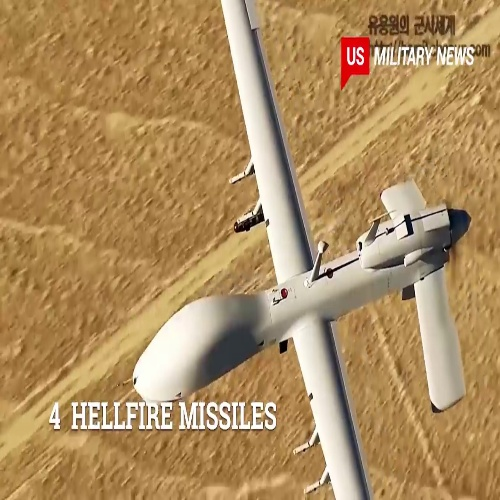uav: (118, 1, 477, 500)
